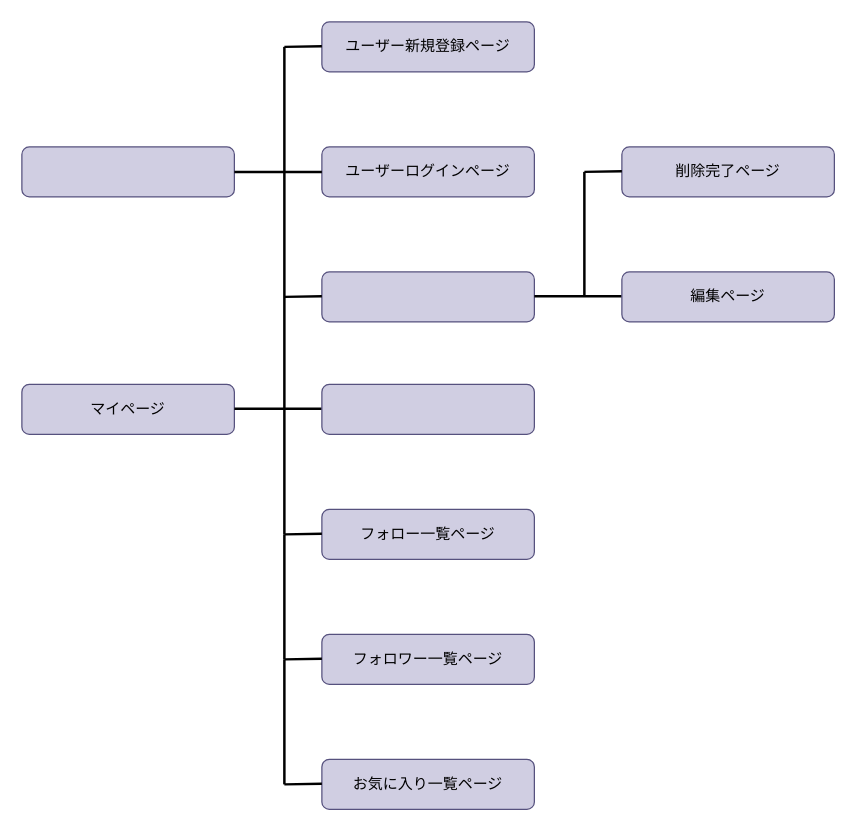
This 856x831 diagram has some shape labels left out. The box of each missing label's shape, as (x1, y1, x2, y2) in pixels:
一覧ページ: (21, 146, 234, 197)
投稿ページ: (321, 383, 534, 434)
詳細ページ: (321, 271, 534, 322)
